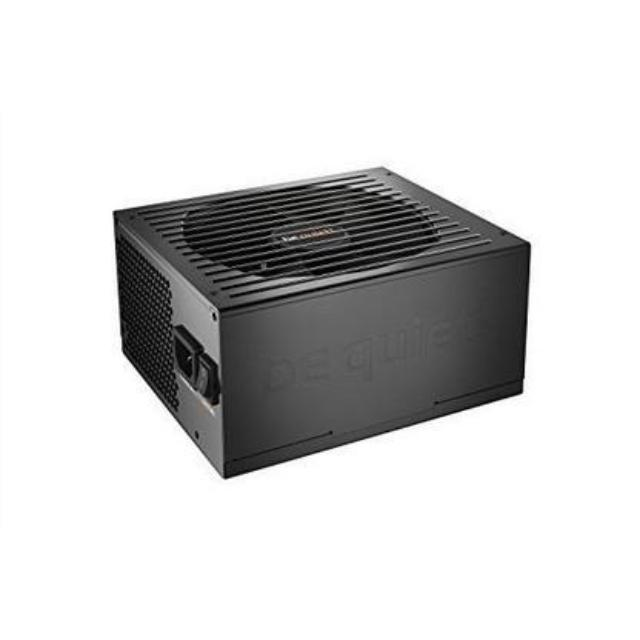PSU: (107, 168, 539, 484)
